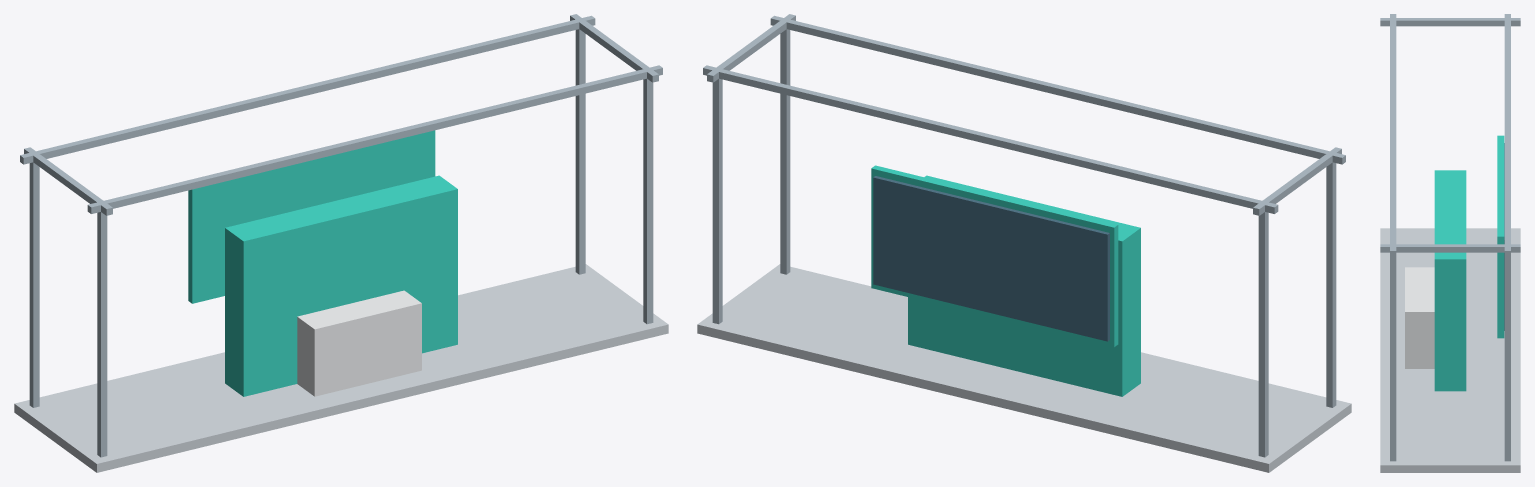
The picture shows the model from 3 angles, left to right: view 1: azimuth 30°, elevation 25°; view 2: azimuth 150°, elevation 25°; view 3: azimuth 270°, elevation 25°; orthographic projection. The views are drawn at different scales.
Parts seen in each view (by area): view 1: Exhibition Booth Concept; view 2: Exhibition Booth Concept; view 3: Exhibition Booth Concept.
Boxes of the visible parts, <box> form: Exhibition Booth Concept: <box>14,14,668,472</box>; Exhibition Booth Concept: <box>697,14,1351,472</box>; Exhibition Booth Concept: <box>1380,14,1520,472</box>.
Bounding box in the file's own units: 8 × 3.49 × 2.
